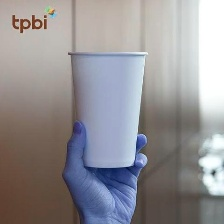paper_cup: (63, 45, 153, 172)
